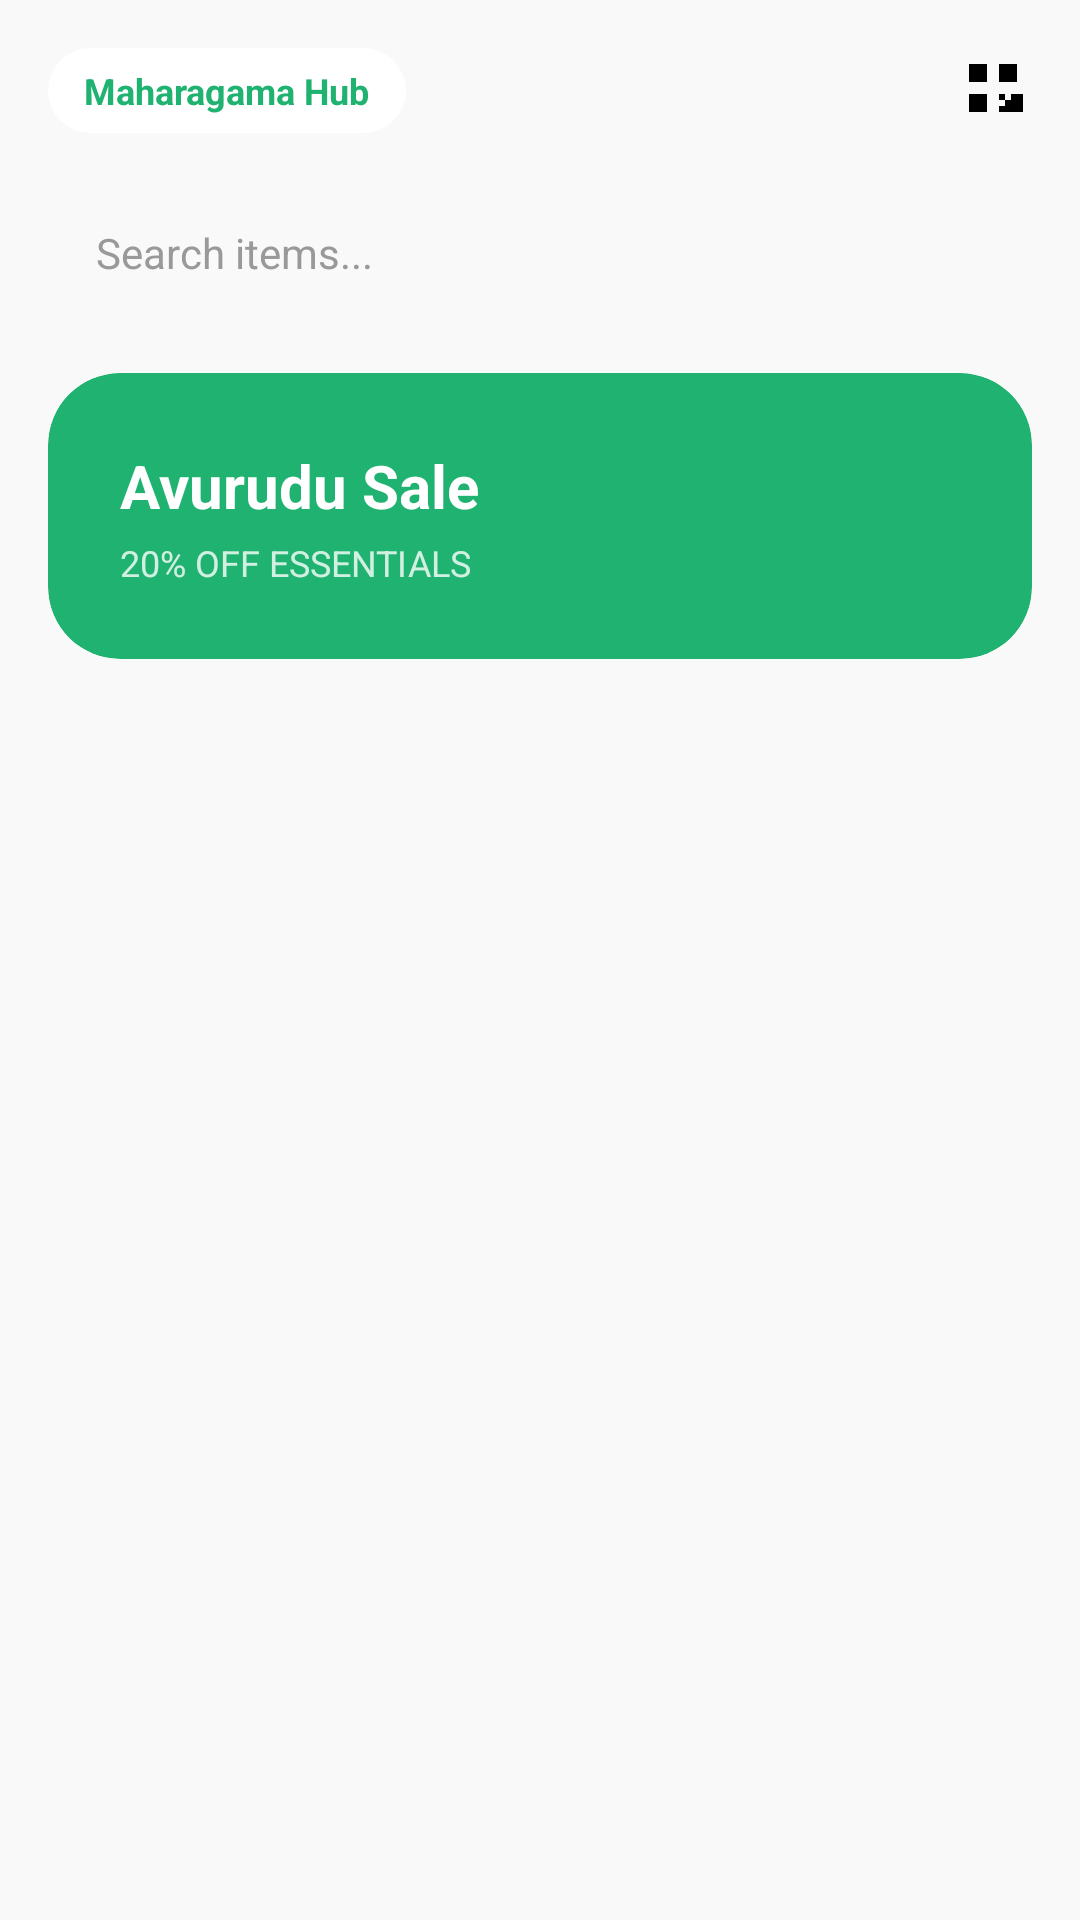

Icons on this 1080×1920 Android screen, each with its box as {"left": x1, "top": y1, "right": x2, "bottom": y2}:
qr code: {"left": 969, "top": 64, "right": 1023, "bottom": 112}
